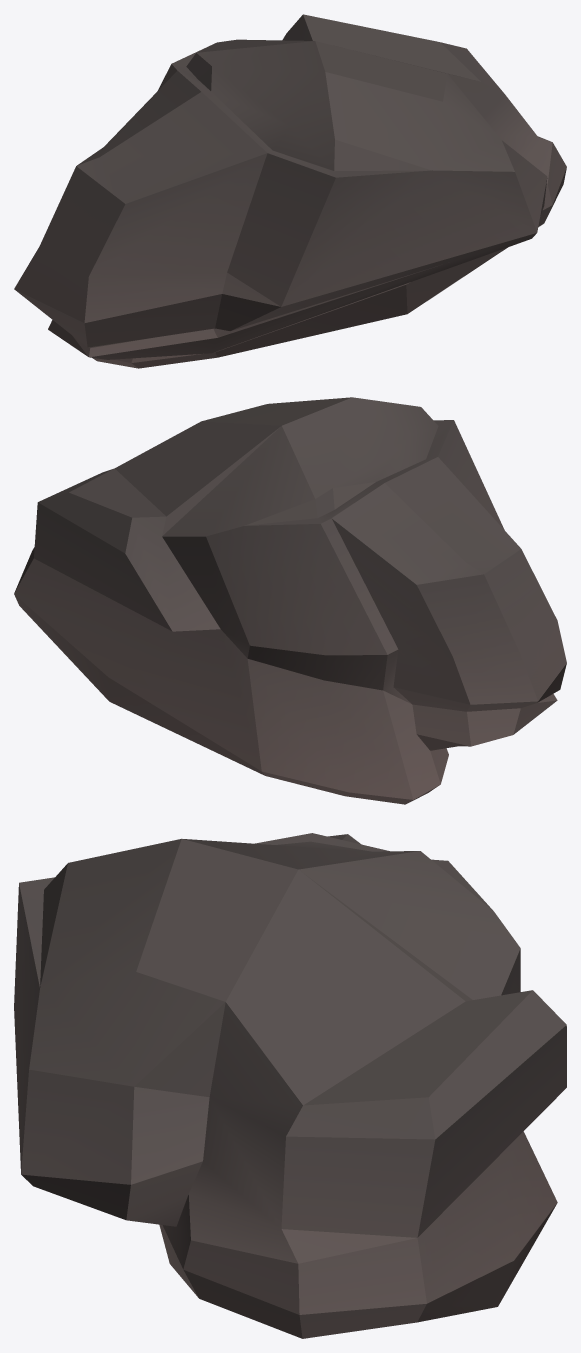
The model's file is roc02.FBX.
3 renders of one model, top to bottom at view 1: azimuth 30°, elevation 25°; view 2: azimuth 150°, elevation 25°; view 3: azimuth 270°, elevation 25°, orthographic. The views are drawn at different scales.
Visible parts, largest first — view 1: roc02_LOD00; view 2: roc02_LOD00; view 3: roc02_LOD00.
Part boxes in pixels (<box>): roc02_LOD00: <box>14,14,566,368</box>; roc02_LOD00: <box>14,397,566,804</box>; roc02_LOD00: <box>14,833,566,1338</box>.
Size of what is drawn, in the model's own units: 91.78 by 50.71 by 57.57.
